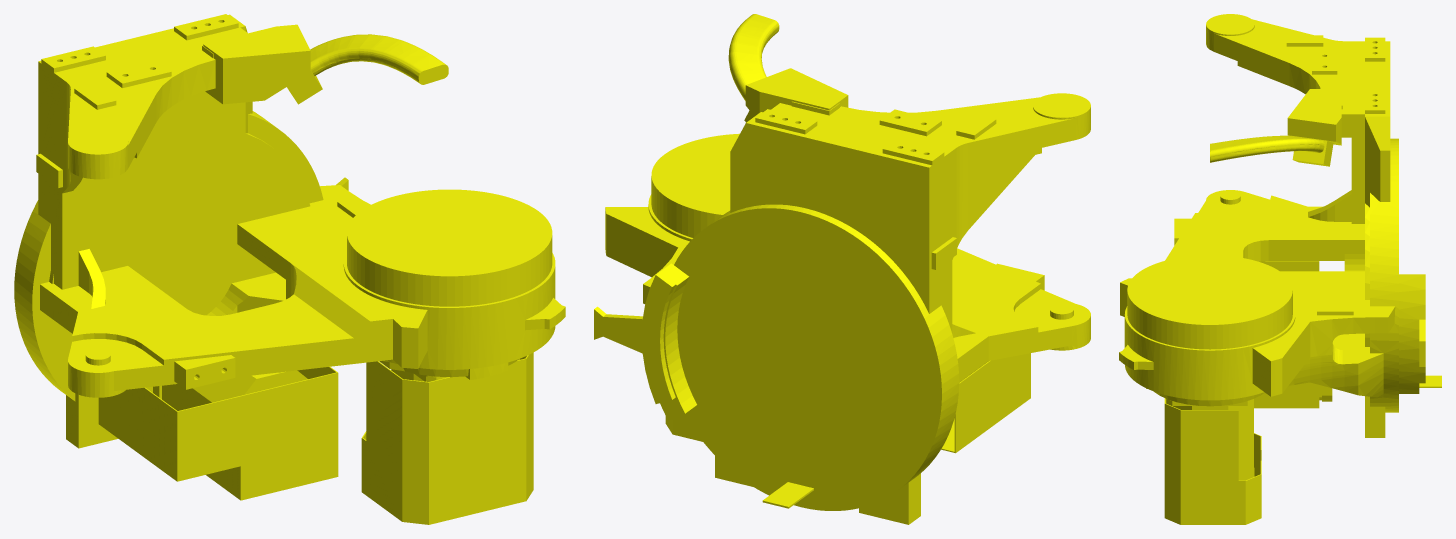
The picture shows the model from 3 angles, left to right: view 1: azimuth 30°, elevation 25°; view 2: azimuth 150°, elevation 25°; view 3: azimuth 270°, elevation 25°; orthographic projection. The views are drawn at different scales.
Parts seen in each view (by area): view 1: node; view 2: node; view 3: node.
Boxes of the visible parts, bbox=[...] form: node: bbox=[14, 14, 565, 524]; node: bbox=[594, 14, 1090, 524]; node: bbox=[1119, 14, 1441, 524].
Bounding box in the file's own units: 873 × 757 × 634.
